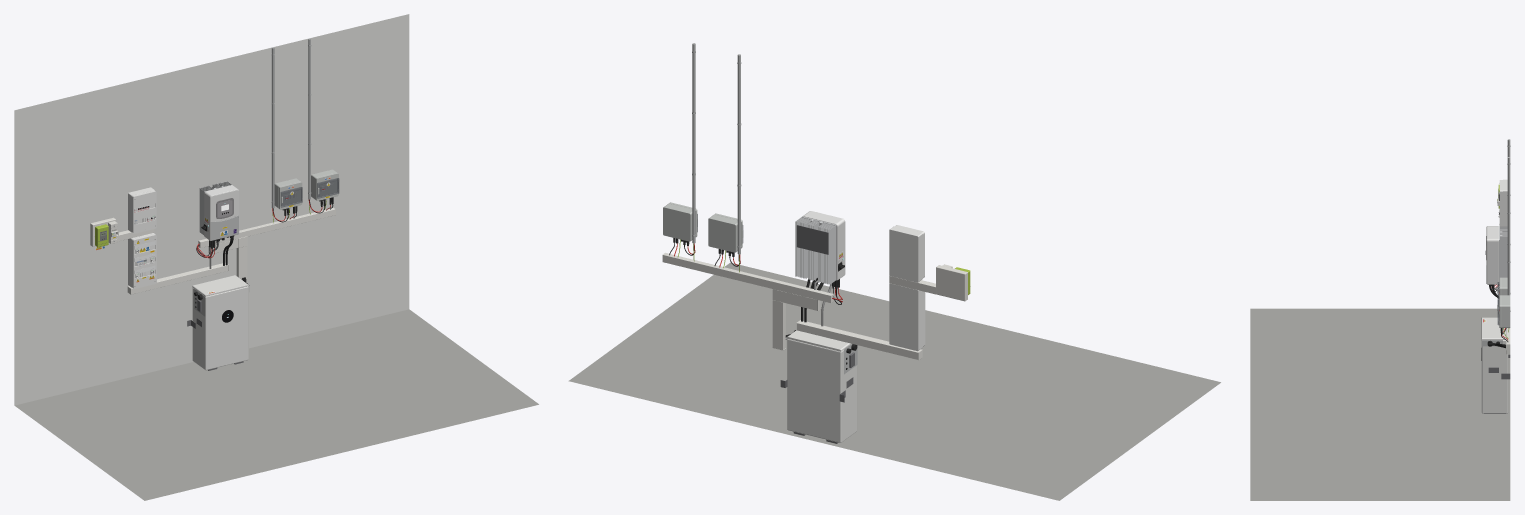
File: local-technique-pv.glb
The picture shows the model from 3 angles, left to right: view 1: azimuth 30°, elevation 25°; view 2: azimuth 150°, elevation 25°; view 3: azimuth 270°, elevation 25°; orthographic projection. The views are drawn at different scales.
Parts seen in each view (by area): view 1: LT_piece, LT_materiel, LT_transparent, LT_etiquettes; view 2: LT_piece, LT_materiel; view 3: LT_piece, LT_materiel.
Part boxes in pixels (bbox=[...]): LT_piece: bbox=[14, 14, 538, 500]; LT_materiel: bbox=[90, 38, 338, 370]; LT_transparent: bbox=[135, 178, 339, 273]; LT_etiquettes: bbox=[95, 176, 330, 293]; LT_piece: bbox=[568, 262, 1220, 500]; LT_materiel: bbox=[662, 43, 970, 443]; LT_piece: bbox=[1250, 308, 1510, 500]; LT_materiel: bbox=[1481, 139, 1510, 413].
Bounding box in the file's own units: 4.2 × 3 × 2.4.
Materials: 46 (2 with a texture image).
